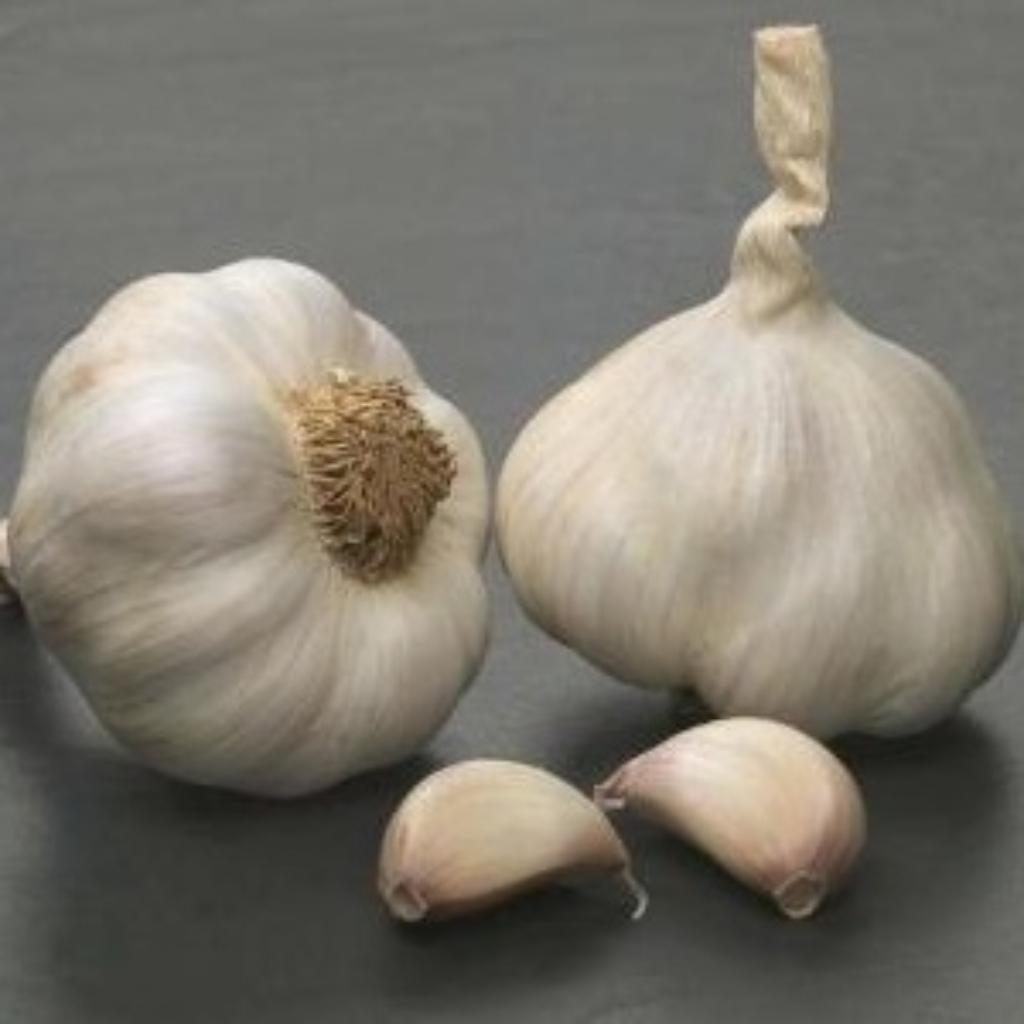garlic: (492, 24, 1014, 730), (7, 256, 481, 788), (601, 713, 860, 911), (375, 758, 638, 915)
